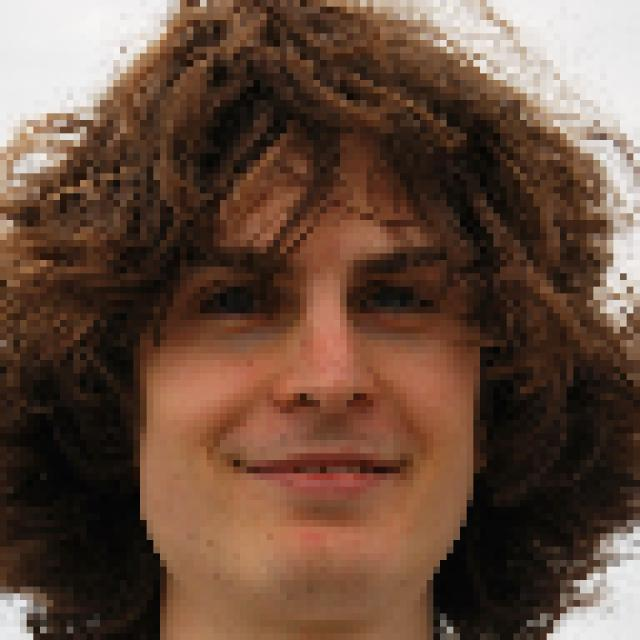Happy: (115, 90, 537, 640)
